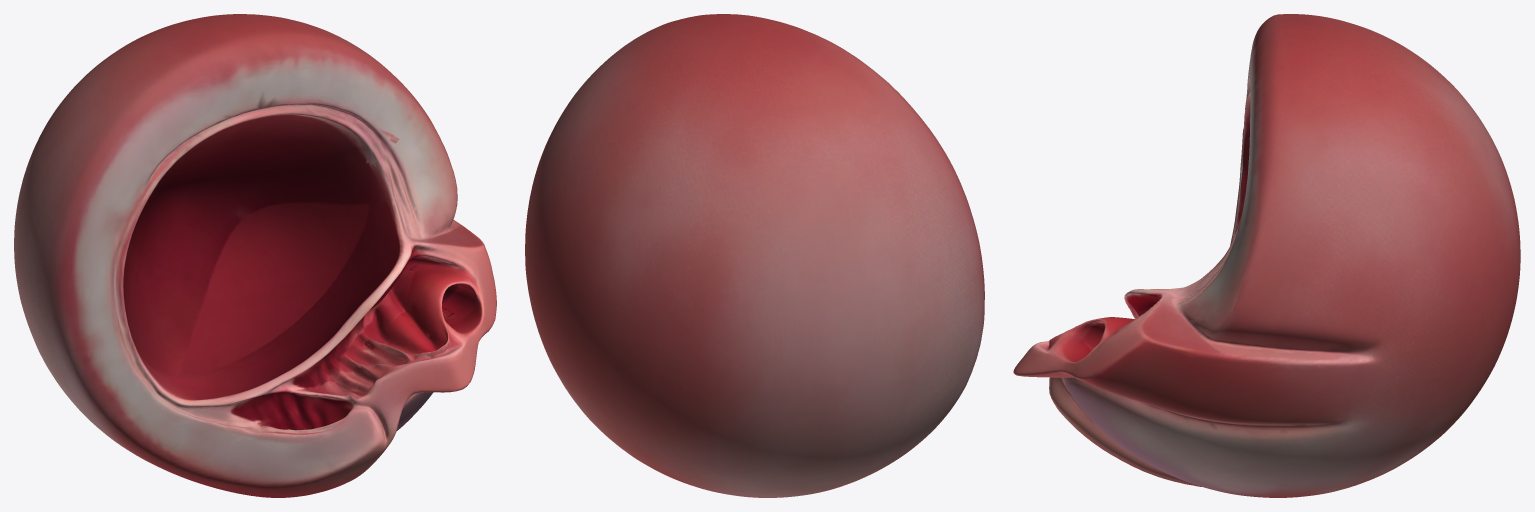
File: vet_v2_organ_dog_bladder.glb
3 views of the same model, side by side, from view 1: azimuth 30°, elevation 25°; view 2: azimuth 150°, elevation 25°; view 3: azimuth 270°, elevation 25° (orthographic). The views are drawn at different scales.
Parts seen in each view (by area): view 1: model; view 2: model; view 3: model.
Boxes of the visible parts, box(x1,y1,x2,y2) form: model: box(14, 14, 496, 497); model: box(525, 14, 984, 497); model: box(1013, 14, 1520, 497).
Bounding box in the file's own units: 1.74 × 1.83 × 1.9.
Materials: 1 (1 with a texture image).
